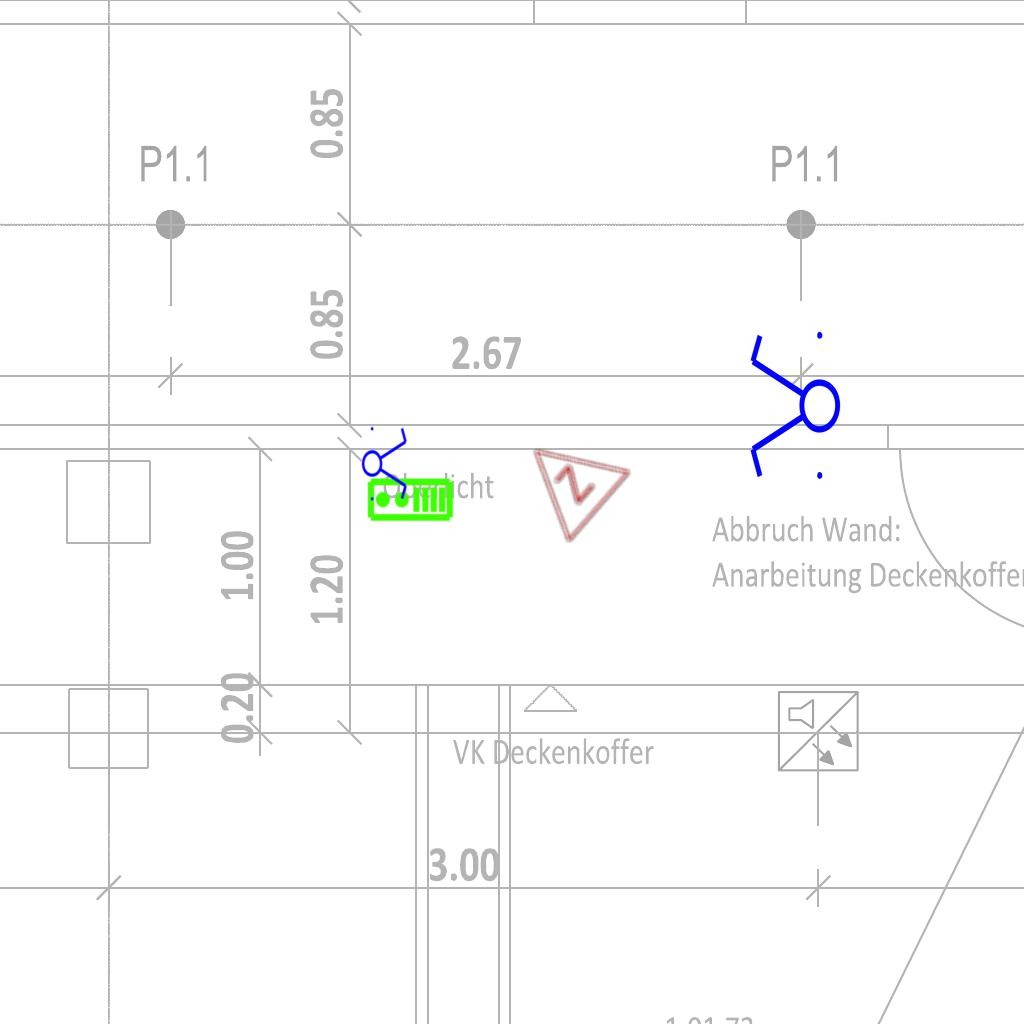Gegensprechanlage_mit_Video: (366, 477, 454, 524)
Serienschalter: (746, 323, 842, 491), (361, 421, 409, 505)
Zimmersignalleuchte: (497, 410, 637, 550)
